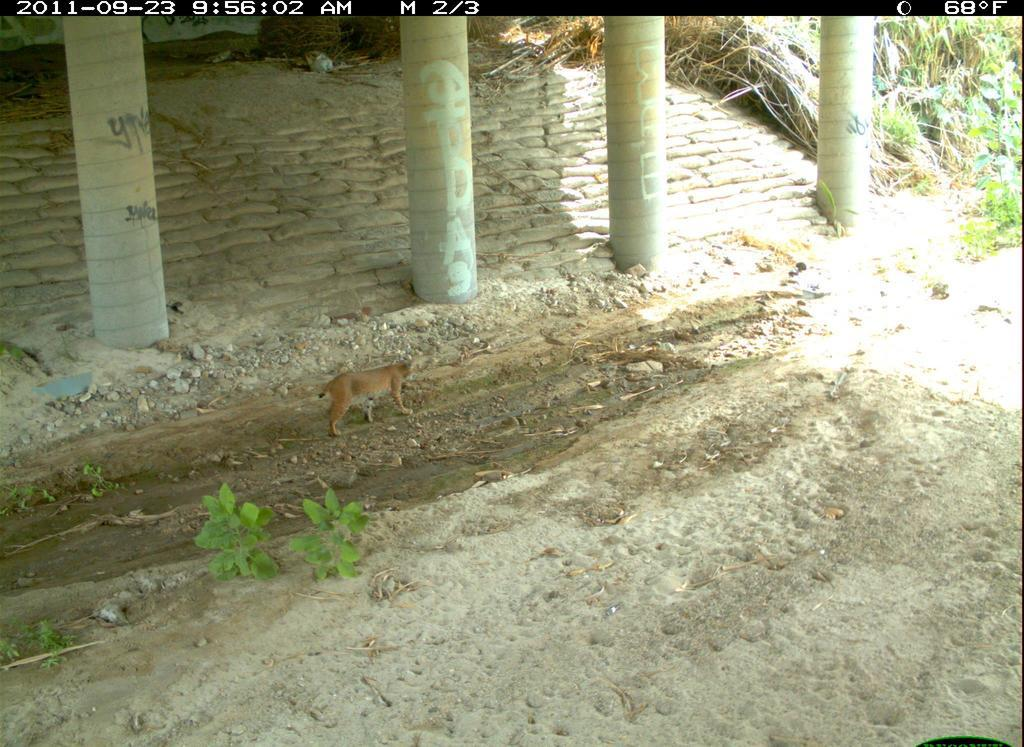bobcat: (623, 701, 846, 747)
